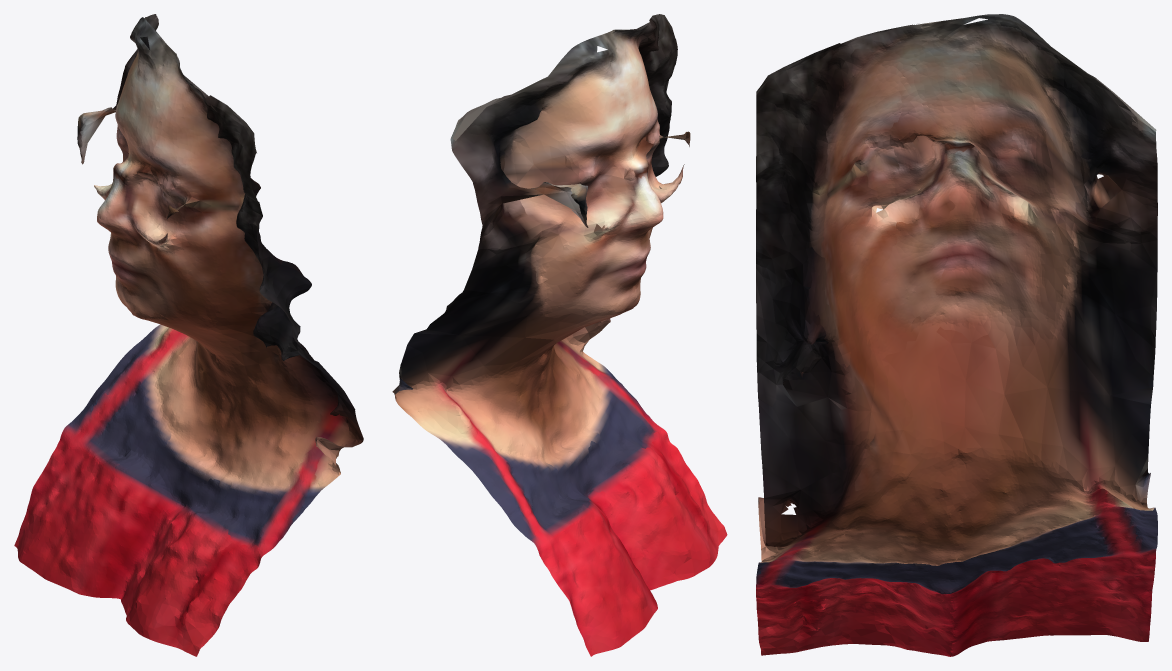
File: Scaniverse 2022-05-09 181139.fbx
The picture shows the model from 3 angles, left to right: view 1: azimuth 30°, elevation 25°; view 2: azimuth 150°, elevation 25°; view 3: azimuth 270°, elevation 25°; orthographic projection. The views are drawn at different scales.
Visible parts, largest first — view 1: mesh; view 2: mesh; view 3: mesh.
Boxes of the visible parts, left/top/right/bottom form: mesh: left=14, top=14, right=363, bottom=656; mesh: left=392, top=14, right=727, bottom=656; mesh: left=756, top=14, right=1157, bottom=656.
Size of the model in its own units: 0.0196 by 0.0484 by 0.0263.
1 material, 1 textured.
